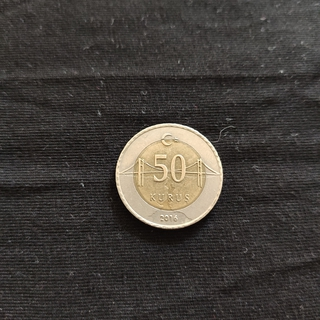50KURUS: (114, 121, 224, 230)
